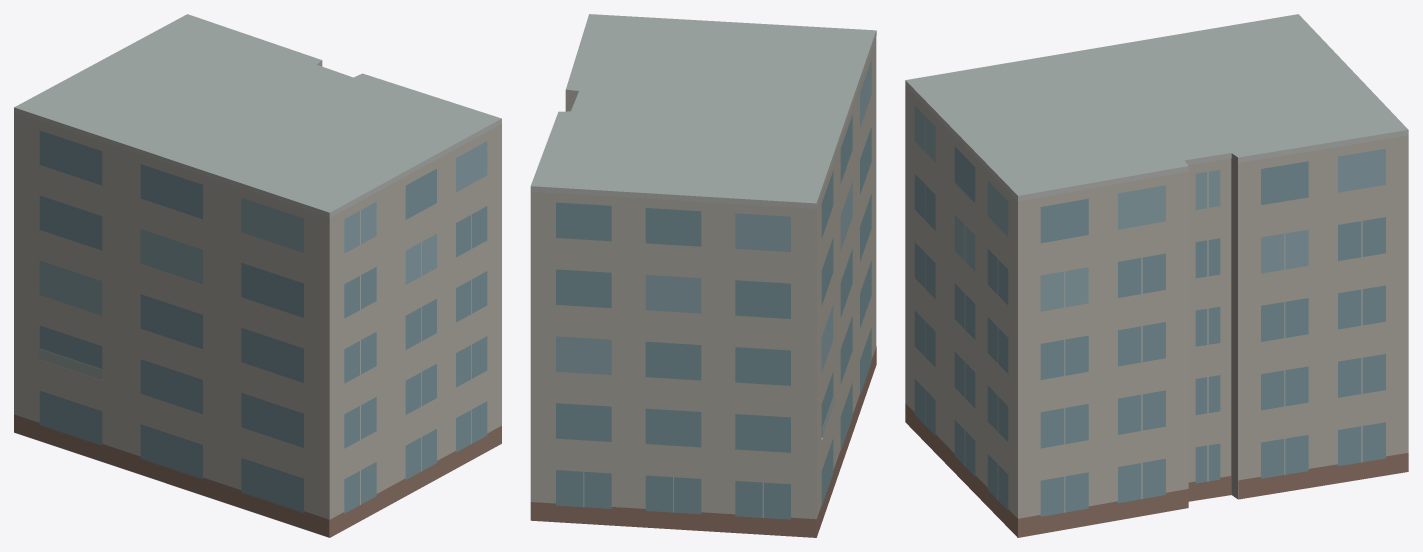
The model's file is survey-upis-32616959.glb.
3 views of the same model, side by side, from view 1: azimuth 30°, elevation 25°; view 2: azimuth 150°, elevation 25°; view 3: azimuth 270°, elevation 25° (orthographic). The views are drawn at different scales.
Visible parts, largest first — view 1: survey-upis-32616959.tmp; view 2: survey-upis-32616959.tmp; view 3: survey-upis-32616959.tmp.
Part boxes in pixels (<box>): survey-upis-32616959.tmp: <box>14,14,501,537</box>; survey-upis-32616959.tmp: <box>530,14,876,537</box>; survey-upis-32616959.tmp: <box>905,14,1408,537</box>.
Bounding box in the file's own units: 17.41 × 15.25 × 20.35.
